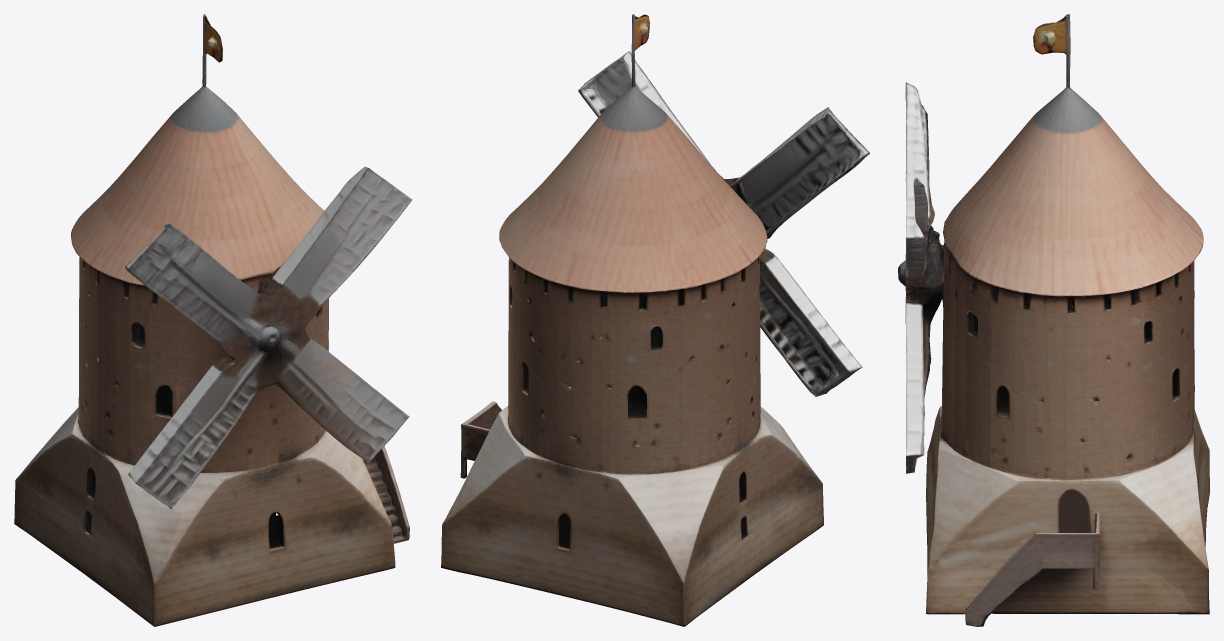
The model's file is appearance_edited_mesh.glb.
3 views of the same model, side by side, from view 1: azimuth 30°, elevation 25°; view 2: azimuth 150°, elevation 25°; view 3: azimuth 270°, elevation 25° (orthographic).
Visible parts, largest first — view 1: world; view 2: world; view 3: world.
Part boxes in pixels (box(x1,y1,x2,y2)): world: box(14, 14, 412, 626); world: box(441, 14, 869, 626); world: box(898, 14, 1209, 626).
Size of the model in its own units: 0.463 by 0.7506 by 0.3926.
Materials: 1 (1 with a texture image).
